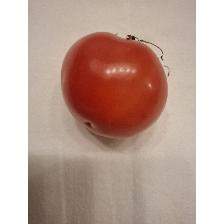Tomate: (56, 25, 174, 143)
